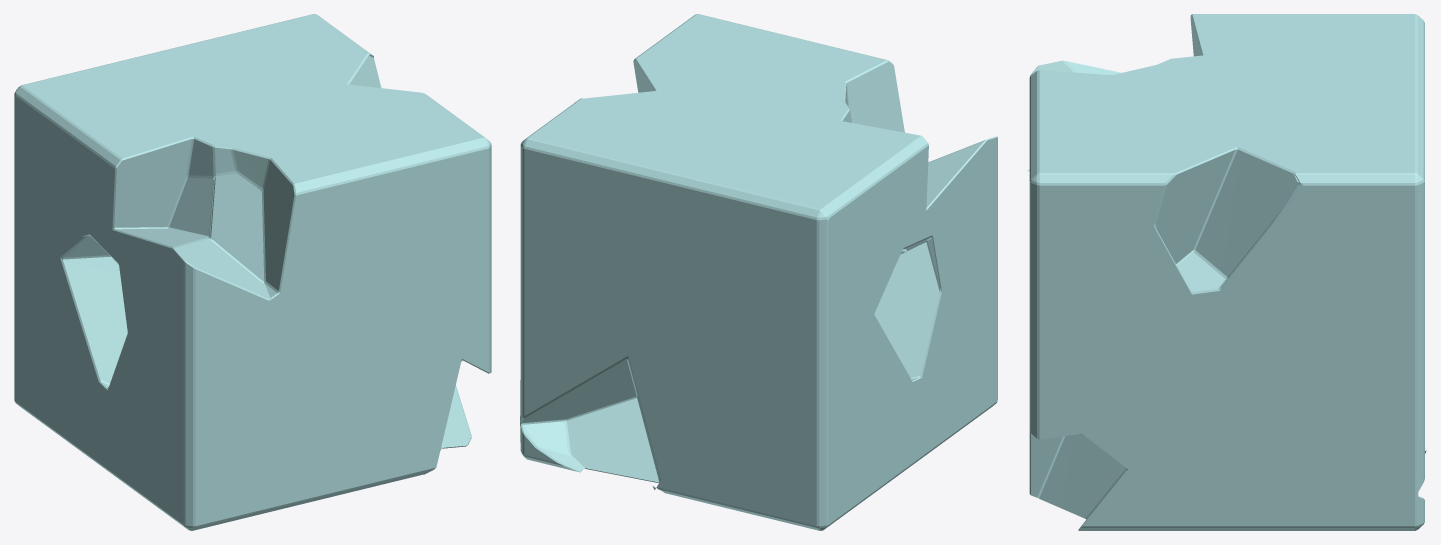
Rendered from Block_ICE.glb.
3 views of the same model, side by side, from view 1: azimuth 30°, elevation 25°; view 2: azimuth 150°, elevation 25°; view 3: azimuth 270°, elevation 25° (orthographic). The views are drawn at different scales.
Visible parts, largest first — view 1: BlockIce; view 2: BlockIce; view 3: BlockIce.
Boxes of the visible parts, x1=… form: BlockIce: x1=14, y1=14, x2=491, y2=530; BlockIce: x1=520, y1=14, x2=997, y2=530; BlockIce: x1=1026, y1=14, x2=1426, y2=530.
Size of the model in its own units: 2.04 by 2 by 2.03.
